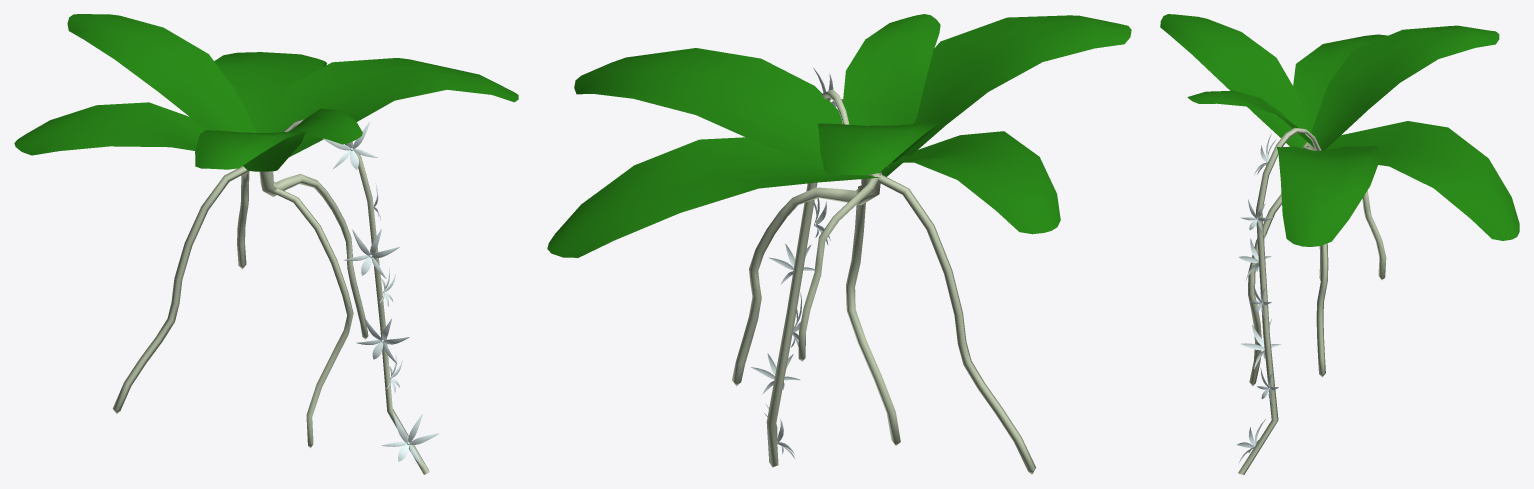
The model's file is Orchid_01.fbx.
3 views of the same model, side by side, from view 1: azimuth 30°, elevation 25°; view 2: azimuth 150°, elevation 25°; view 3: azimuth 270°, elevation 25° (orthographic). The views are drawn at different scales.
Visible parts, largest first — view 1: Orchid_01, Orchid_01_roots, Orchid_01_flower; view 2: Orchid_01, Orchid_01_roots, Orchid_01_flower; view 3: Orchid_01, Orchid_01_roots, Orchid_01_flower.
Boxes of the visible parts, bbox=[...] form: Orchid_01: bbox=[14, 14, 518, 171]; Orchid_01_roots: bbox=[112, 119, 429, 474]; Orchid_01_flower: bbox=[322, 122, 439, 466]; Orchid_01: bbox=[547, 14, 1131, 257]; Orchid_01_roots: bbox=[732, 89, 1035, 474]; Orchid_01_flower: bbox=[751, 68, 843, 458]; Orchid_01: bbox=[1160, 14, 1519, 246]; Orchid_01_roots: bbox=[1238, 127, 1386, 474]; Orchid_01_flower: bbox=[1237, 134, 1281, 463].
Size of the model in its own units: 1.6 by 1.39 by 1.26.
